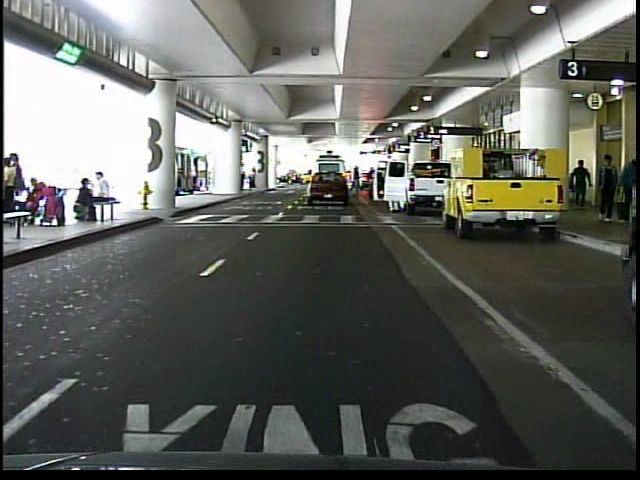person: (593, 151, 617, 221), (566, 156, 593, 213), (248, 167, 260, 191)
